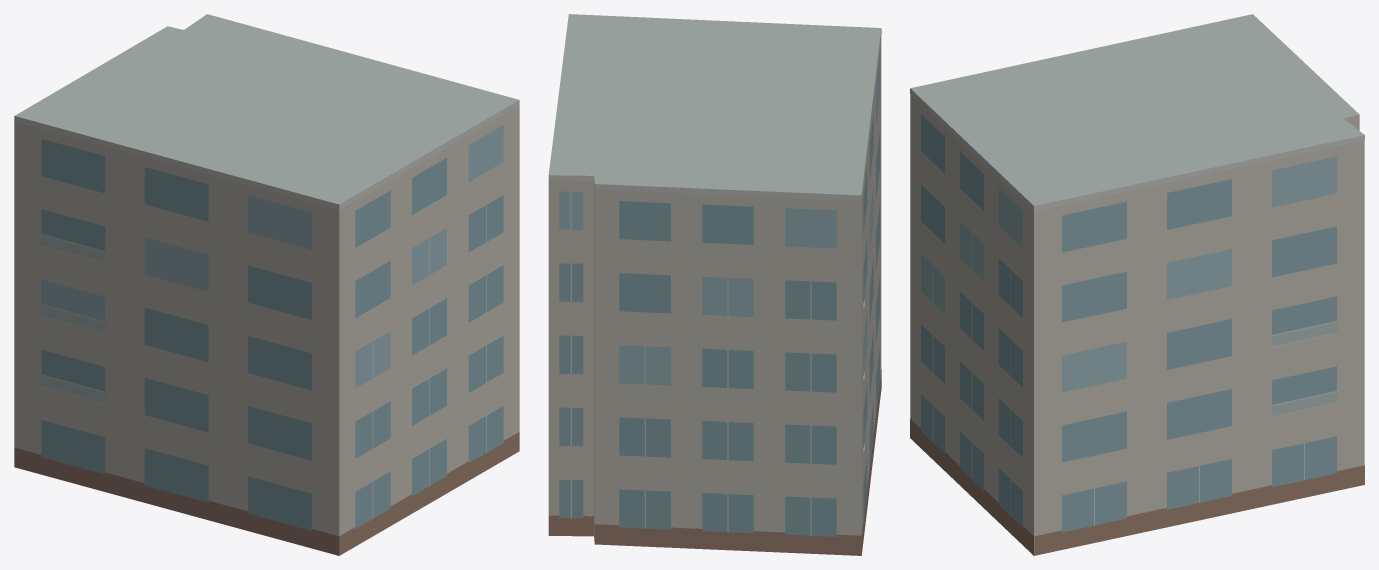
The model's file is survey-upis-32872447.glb.
3 renders of one model, left to right at view 1: azimuth 30°, elevation 25°; view 2: azimuth 150°, elevation 25°; view 3: azimuth 270°, elevation 25°, orthographic. The views are drawn at different scales.
Visible parts, largest first — view 1: survey-upis-32872447.tmp; view 2: survey-upis-32872447.tmp; view 3: survey-upis-32872447.tmp.
Part boxes in pixels (box(x1,y1,x2,y2)): survey-upis-32872447.tmp: box(14, 14, 519, 555); survey-upis-32872447.tmp: box(548, 14, 881, 555); survey-upis-32872447.tmp: box(910, 14, 1364, 555).
Size of the model in its own units: 17.96 by 15.25 by 17.97.
